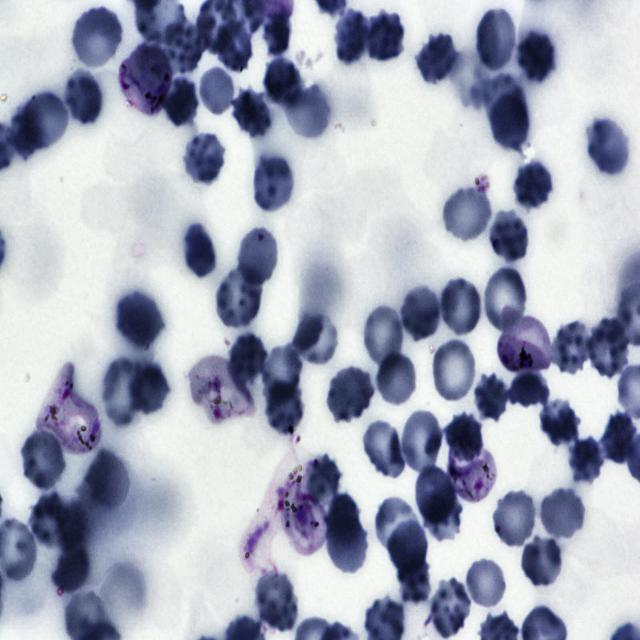red blood cell: (69, 6, 124, 72), (480, 263, 531, 334), (17, 90, 70, 153), (83, 447, 134, 511), (18, 427, 68, 491), (490, 488, 540, 550), (214, 264, 263, 326), (400, 407, 444, 476), (115, 288, 163, 351), (324, 512, 370, 577), (537, 484, 587, 543), (474, 6, 518, 73), (433, 338, 478, 403), (438, 276, 484, 339), (442, 186, 493, 242), (584, 116, 630, 178), (254, 570, 300, 632), (586, 319, 631, 381), (374, 495, 418, 558), (427, 578, 473, 638), (290, 312, 338, 369), (362, 418, 406, 480), (281, 83, 330, 138), (104, 356, 142, 426), (488, 91, 530, 154), (363, 306, 404, 370), (235, 226, 278, 287), (326, 366, 372, 423), (519, 535, 566, 589), (163, 18, 208, 74), (263, 380, 306, 438), (515, 28, 558, 86), (415, 464, 456, 524), (415, 30, 458, 86), (400, 285, 442, 342), (552, 320, 594, 377), (181, 132, 226, 185), (263, 344, 304, 402), (512, 158, 556, 212), (180, 220, 218, 282), (252, 155, 294, 211), (464, 557, 508, 610), (63, 68, 103, 125), (538, 395, 581, 448), (488, 210, 530, 264), (364, 10, 406, 64), (29, 495, 71, 549), (129, 359, 170, 414), (161, 74, 201, 130), (230, 88, 273, 140), (387, 521, 428, 575), (418, 493, 463, 542), (215, 16, 251, 77), (332, 11, 370, 67), (376, 352, 416, 405), (566, 438, 608, 488), (262, 58, 304, 107), (228, 332, 265, 387), (472, 372, 511, 424), (600, 412, 638, 465), (198, 65, 235, 115), (52, 545, 90, 593), (506, 368, 550, 409), (446, 413, 486, 458), (328, 494, 359, 548), (306, 456, 342, 502), (397, 558, 431, 606), (263, 6, 291, 57)
trophozoite: (34, 361, 102, 454), (280, 470, 330, 557), (189, 356, 251, 423), (120, 41, 172, 119), (240, 480, 282, 575), (496, 312, 554, 377), (445, 444, 498, 506)
